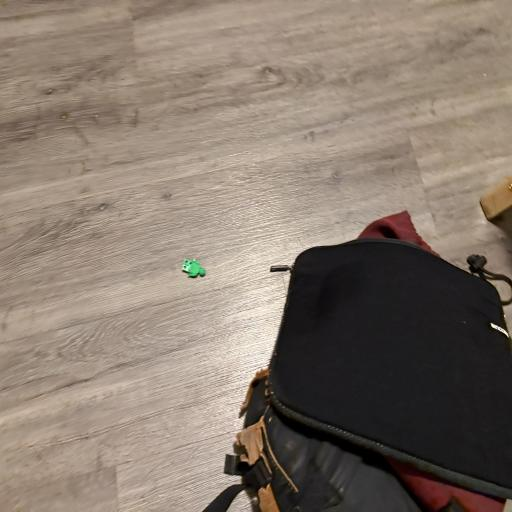Minifig: (182, 259, 206, 277)
